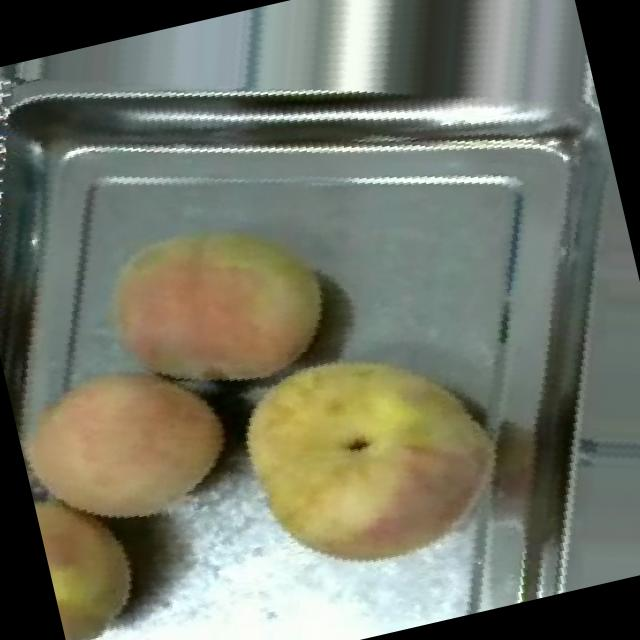Fruit: (183, 284, 552, 634), (59, 164, 371, 444), (2, 314, 267, 574)
